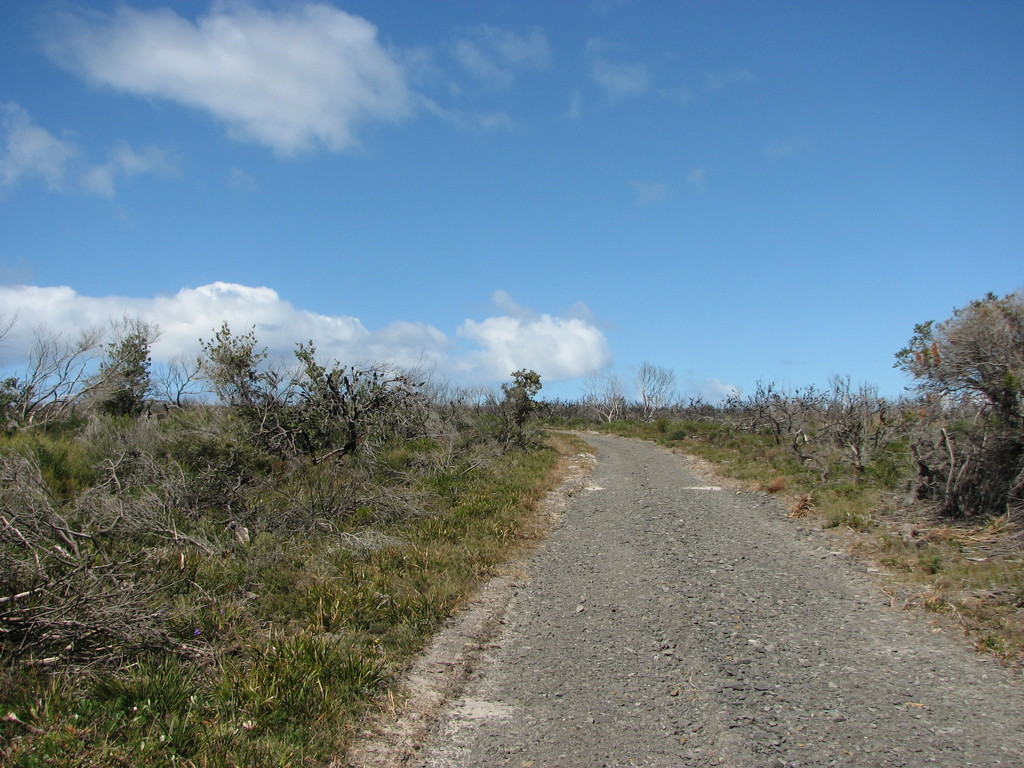Tree: (893, 282, 1023, 490)
